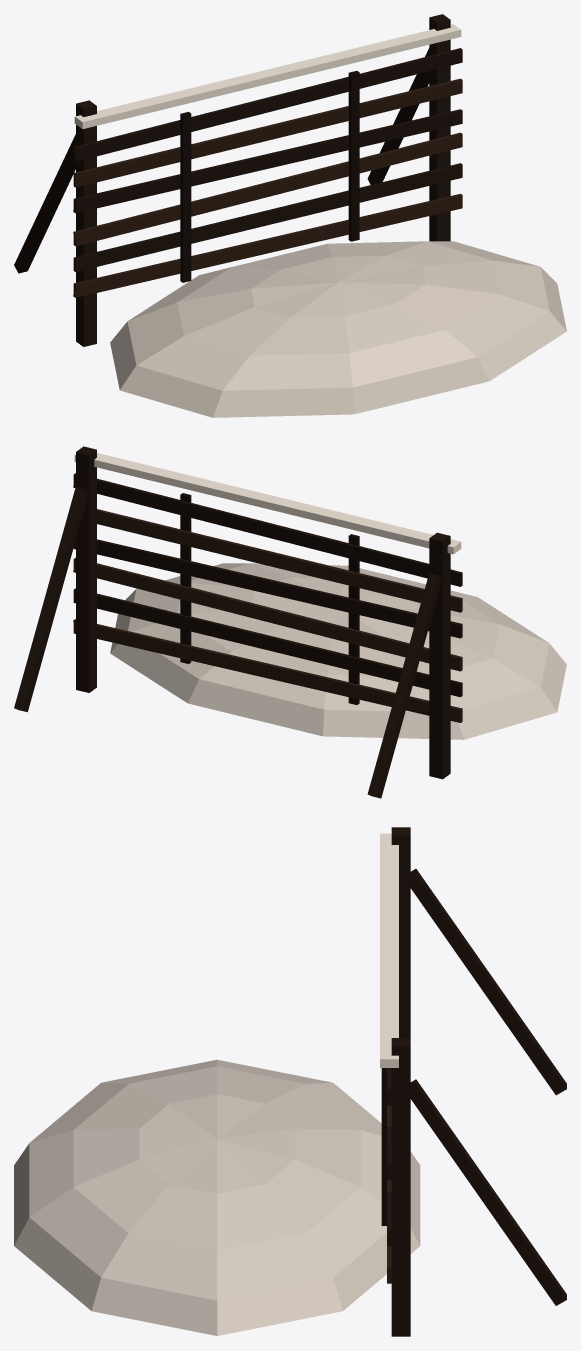
The model's file is rs_snow_fence.glb.
3 renders of one model, top to bottom at view 1: azimuth 30°, elevation 25°; view 2: azimuth 150°, elevation 25°; view 3: azimuth 270°, elevation 25°, orthographic. The views are drawn at different scales.
Visible parts, largest first — view 1: fence; view 2: fence; view 3: fence.
Boxes of the visible parts, x1,y1,x2,y2 form: fence: (14, 14, 566, 417); fence: (14, 446, 566, 798); fence: (14, 827, 566, 1336).
Bounding box in the file's own units: 5.2 × 2.7 × 4.66.
